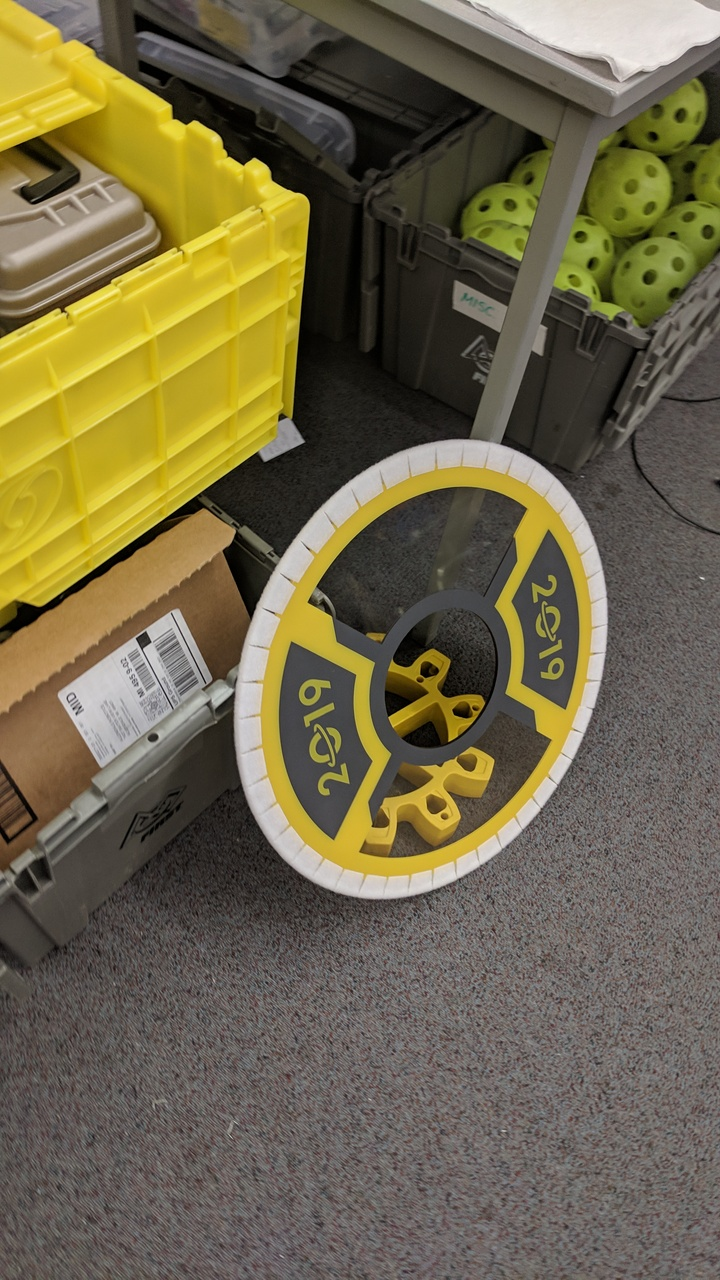hatch_panel: (225, 435, 611, 905)
